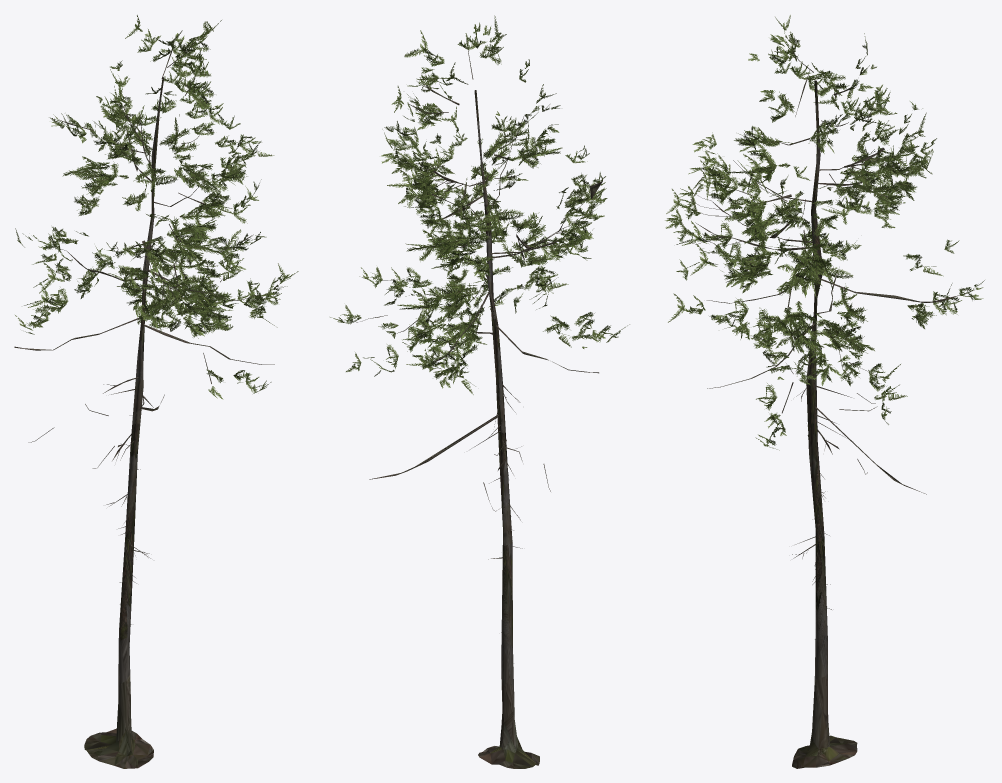
The model's file is conifer-c.glb.
The picture shows the model from 3 angles, left to right: view 1: azimuth 30°, elevation 25°; view 2: azimuth 150°, elevation 25°; view 3: azimuth 270°, elevation 25°; orthographic projection. The views are drawn at different scales.
Visible parts, largest first — view 1: SM_AlpineConifer_C_1, SM_AlpineConifer_C_3, SM_AlpineConifer_C_0; view 2: SM_AlpineConifer_C_1, SM_AlpineConifer_C_3, SM_AlpineConifer_C_0; view 3: SM_AlpineConifer_C_1, SM_AlpineConifer_C_3, SM_AlpineConifer_C_0.
Boxes of the visible parts, x1,y1,x2,y2 form: SM_AlpineConifer_C_1: (15,15,298,399); SM_AlpineConifer_C_3: (84,77,164,768); SM_AlpineConifer_C_0: (14,41,282,468); SM_AlpineConifer_C_1: (330,15,629,394); SM_AlpineConifer_C_3: (474,90,539,768); SM_AlpineConifer_C_0: (353,39,602,511); SM_AlpineConifer_C_1: (665,15,984,450); SM_AlpineConifer_C_3: (792,80,857,768); SM_AlpineConifer_C_0: (687,50,974,494).
Bounding box in the file's own units: 4.61 × 11.65 × 4.5.
4 materials, 4 textured.
